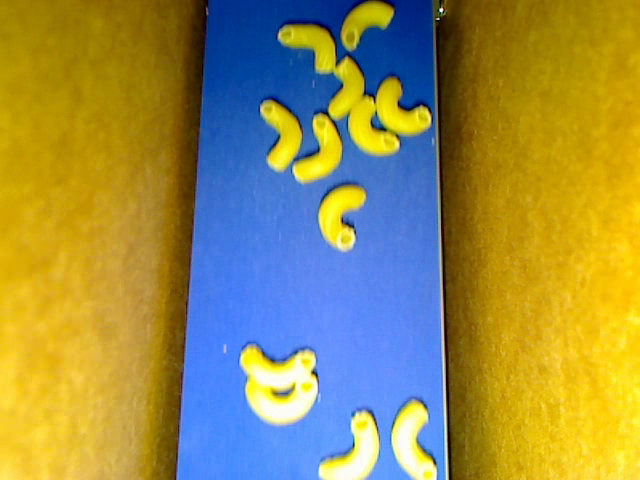elbow: (317, 410, 380, 479), (244, 373, 319, 428), (238, 342, 316, 392), (391, 398, 438, 479), (290, 114, 341, 182), (375, 76, 432, 136), (317, 183, 365, 252), (258, 99, 302, 172), (347, 95, 399, 156), (278, 24, 335, 74), (340, 1, 393, 52), (328, 56, 364, 120)
